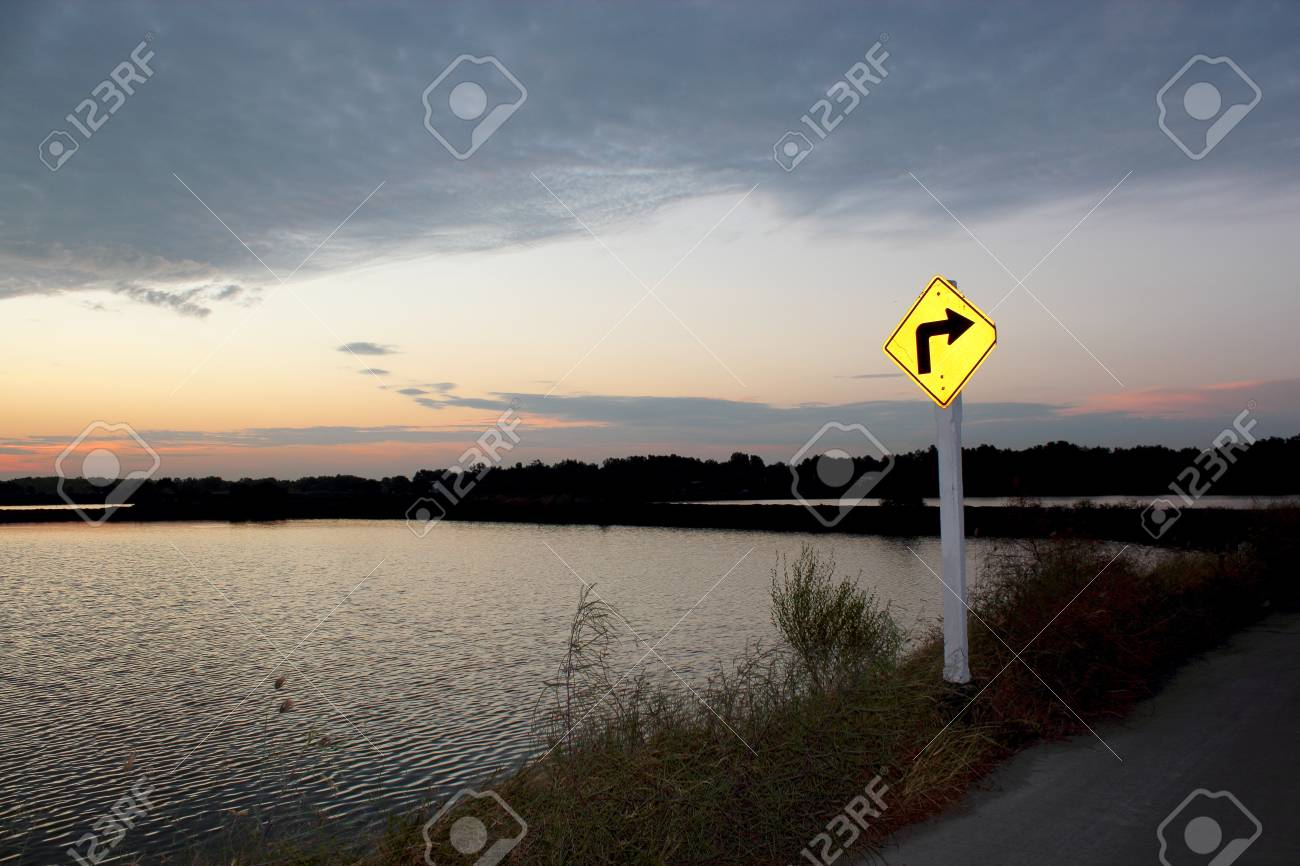right: (880, 274, 997, 410)
